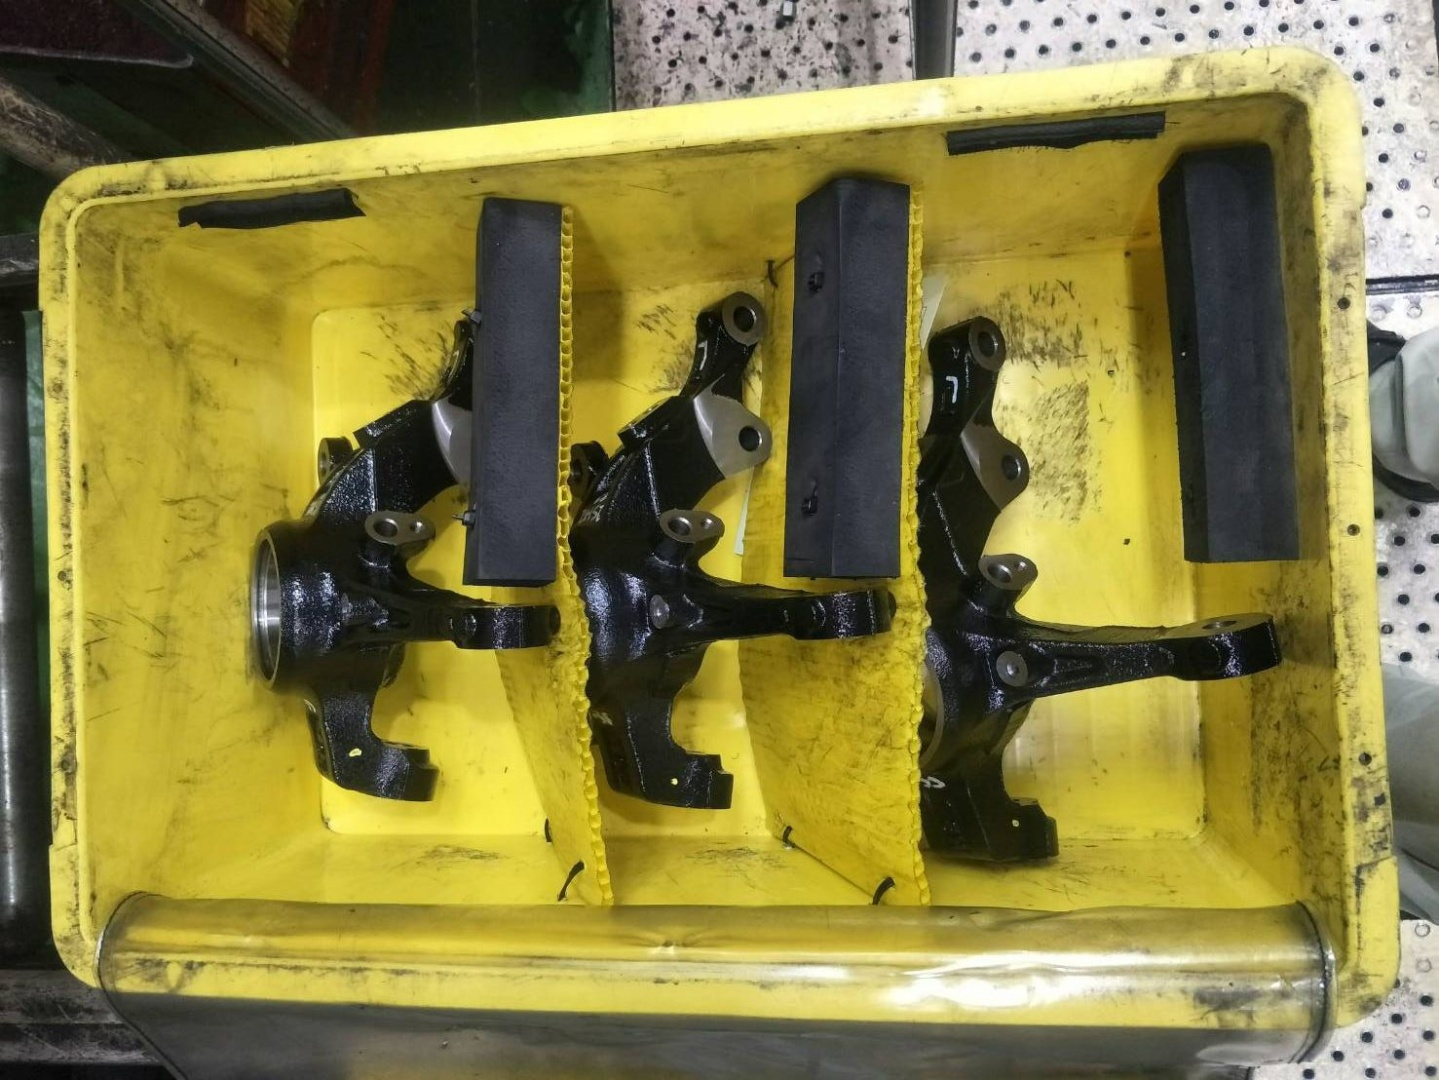abs-lh: (903, 305, 1290, 880), (569, 285, 902, 822), (242, 286, 569, 811)
